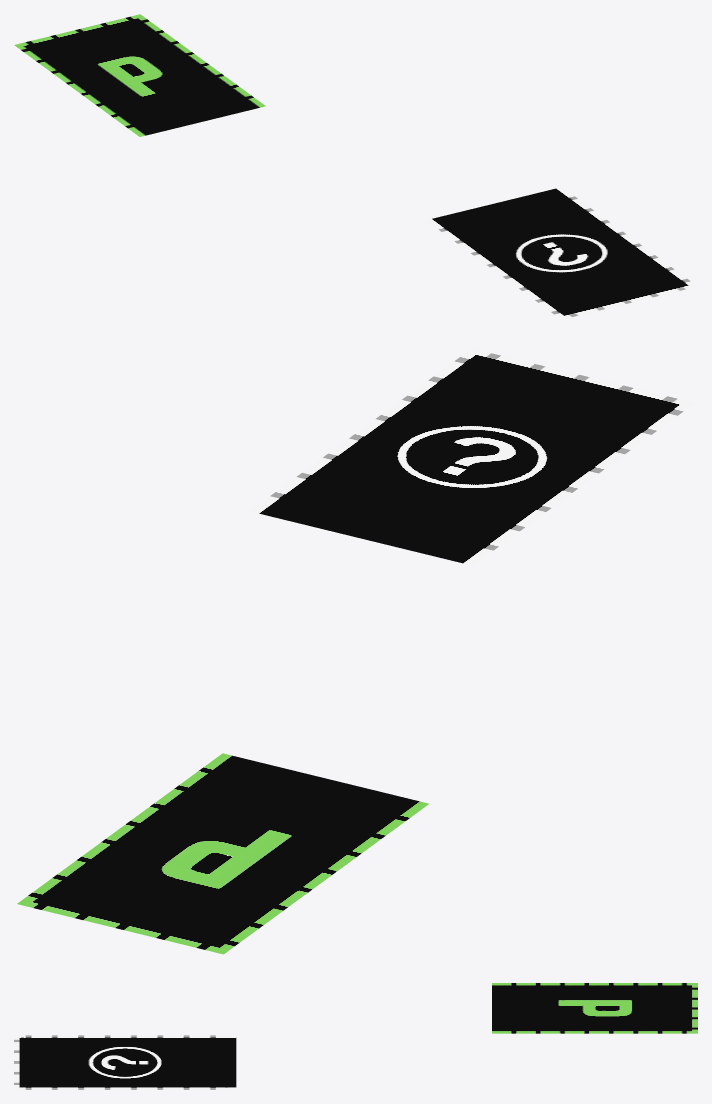
File: lvl5.glb
3 renders of one model, top to bottom at view 1: azimuth 30°, elevation 25°; view 2: azimuth 150°, elevation 25°; view 3: azimuth 270°, elevation 25°, orthographic. The views are drawn at different scales.
Parts seen in each view (by area): view 1: Lines_2, Lines; view 2: Lines_2, Lines; view 3: Lines_2, Lines.
Part boxes in pixels (x1,y1,x2,y2): Lines_2: [426, 187, 697, 319]; Lines: [14, 14, 265, 136]; Lines_2: [250, 348, 694, 565]; Lines: [17, 753, 429, 954]; Lines_2: [14, 1035, 236, 1089]; Lines: [492, 983, 697, 1033].
Size of the model in its own units: 6.11 by 0.0131 by 16.61.
Materials: 2 (2 with a texture image).
